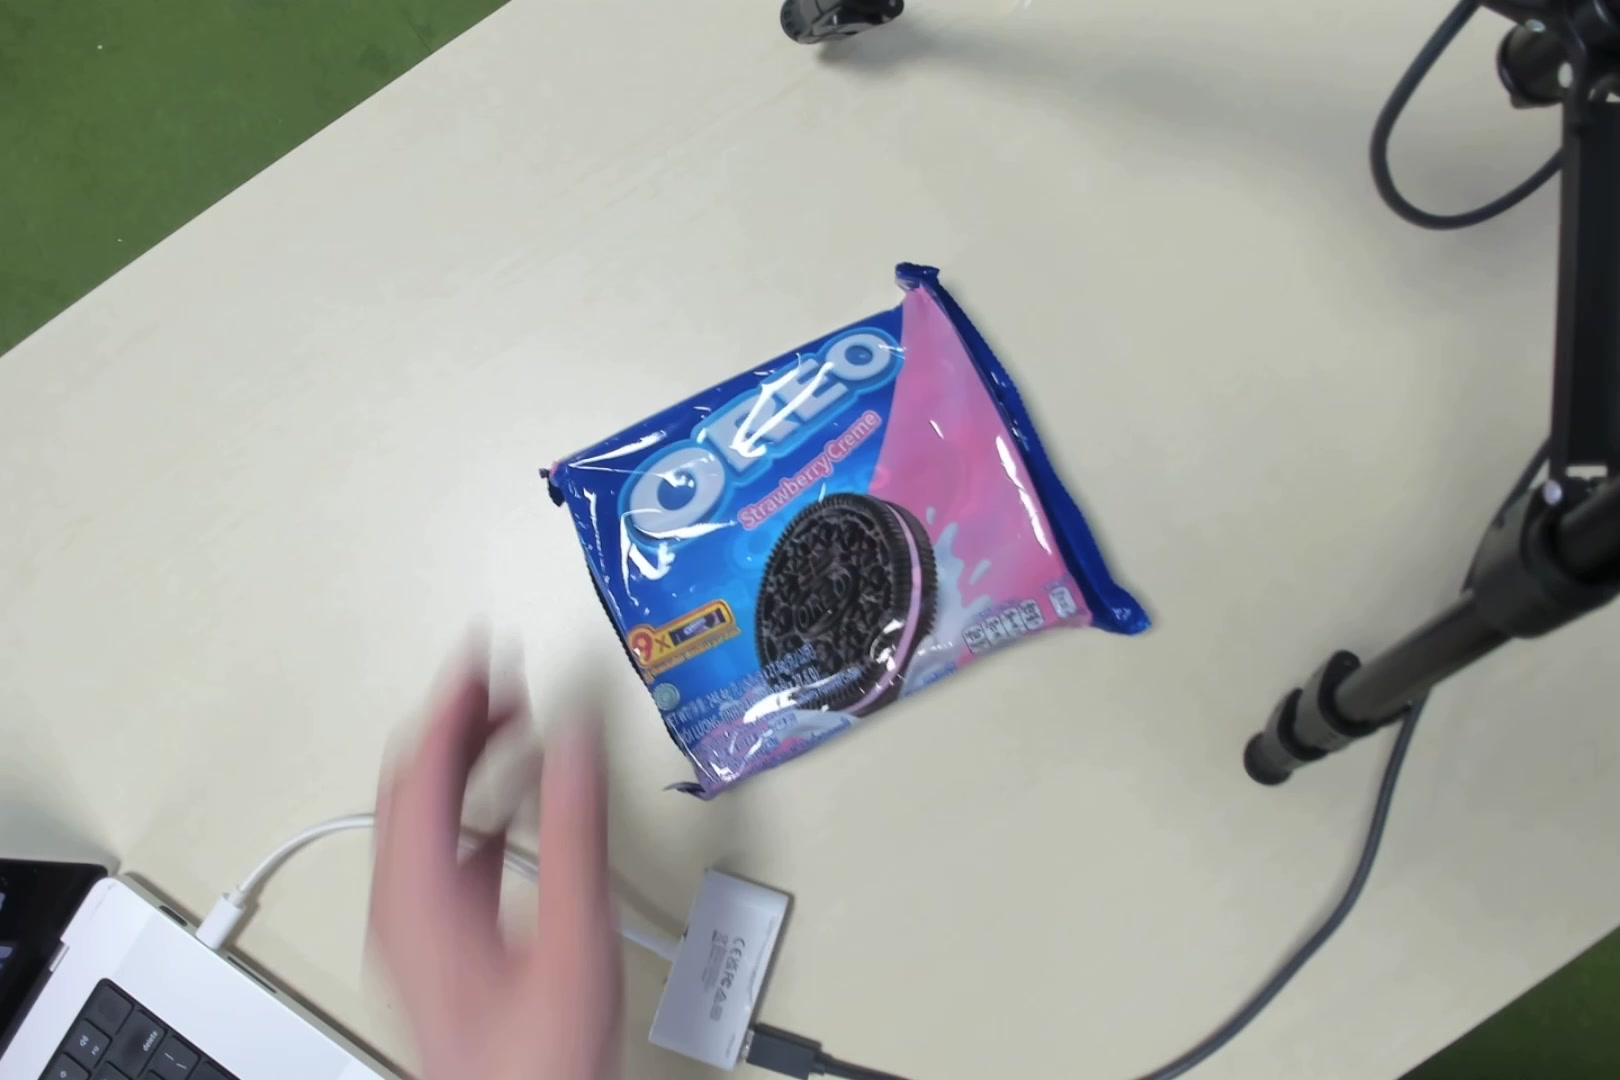SweetsChocolatesOthers_200-299g_Halal_NonHealthy: (576, 294, 1045, 751)
